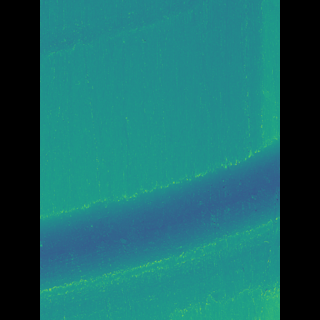Loch: (70, 135, 250, 319)
